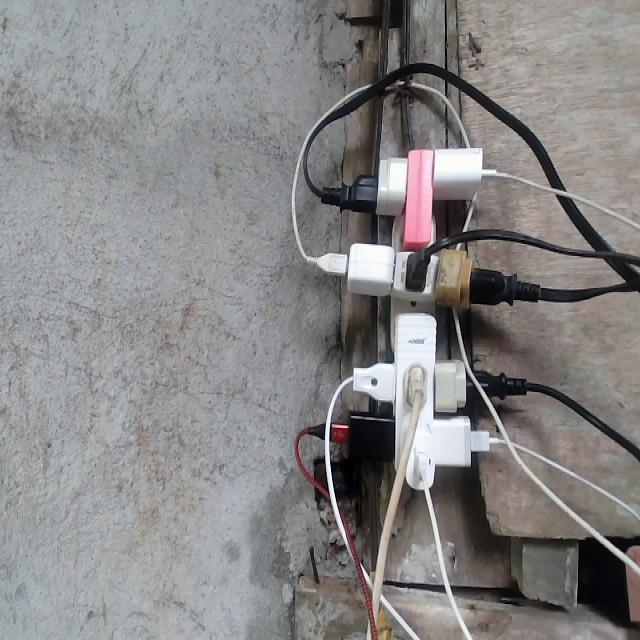-: (306, 144, 540, 492)
